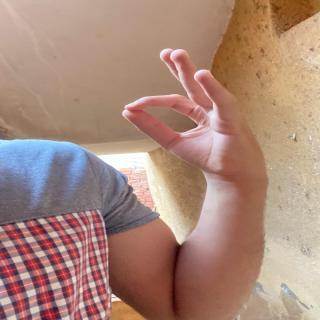Space: (121, 42, 261, 176)
